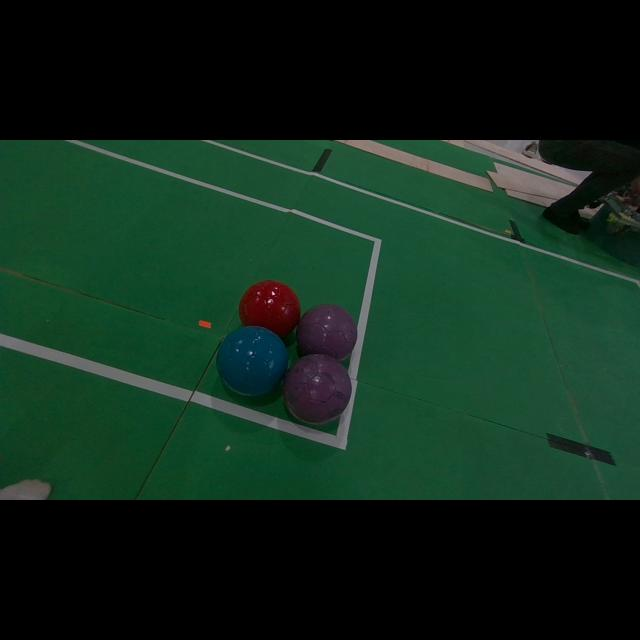B: (216, 326, 288, 396)
P: (282, 354, 351, 424), (296, 304, 358, 361)
R: (239, 280, 301, 338)
